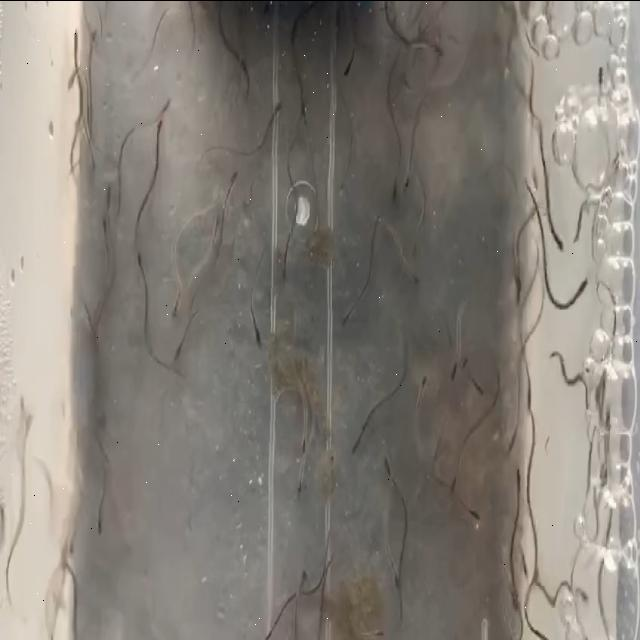active_glass_eel: (492, 446, 530, 530), (18, 390, 56, 466), (400, 145, 446, 197), (582, 52, 617, 114), (396, 247, 426, 319), (382, 164, 410, 233), (385, 538, 409, 616), (330, 52, 366, 104), (436, 447, 462, 514), (411, 343, 436, 409), (294, 411, 328, 457), (332, 292, 358, 350), (160, 333, 197, 373), (512, 244, 532, 318), (288, 466, 306, 547), (570, 262, 598, 310), (342, 418, 362, 484), (244, 306, 262, 378), (549, 205, 573, 259), (275, 250, 303, 296), (290, 560, 318, 602), (564, 578, 592, 620), (126, 243, 148, 296), (378, 433, 396, 495), (445, 354, 464, 402), (84, 22, 110, 56), (65, 24, 86, 66), (164, 283, 188, 319), (465, 362, 486, 402), (149, 109, 170, 143), (91, 504, 108, 536)
